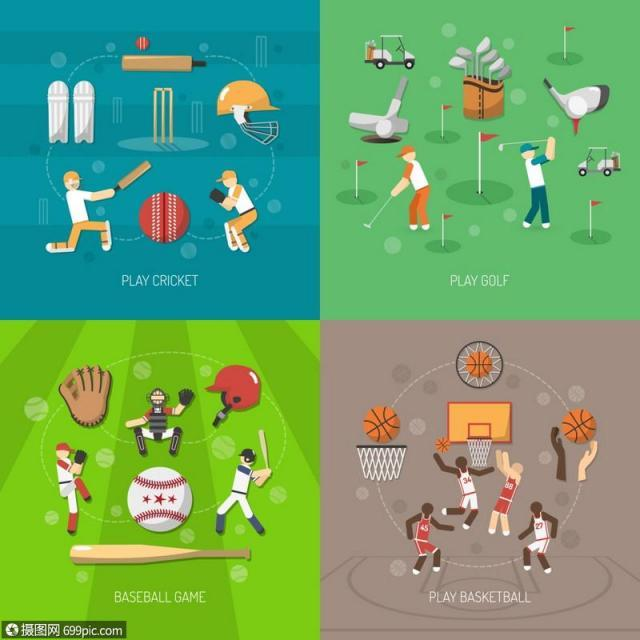rim: (364, 404, 402, 442), (564, 409, 596, 442), (468, 352, 494, 373), (432, 438, 453, 452)
